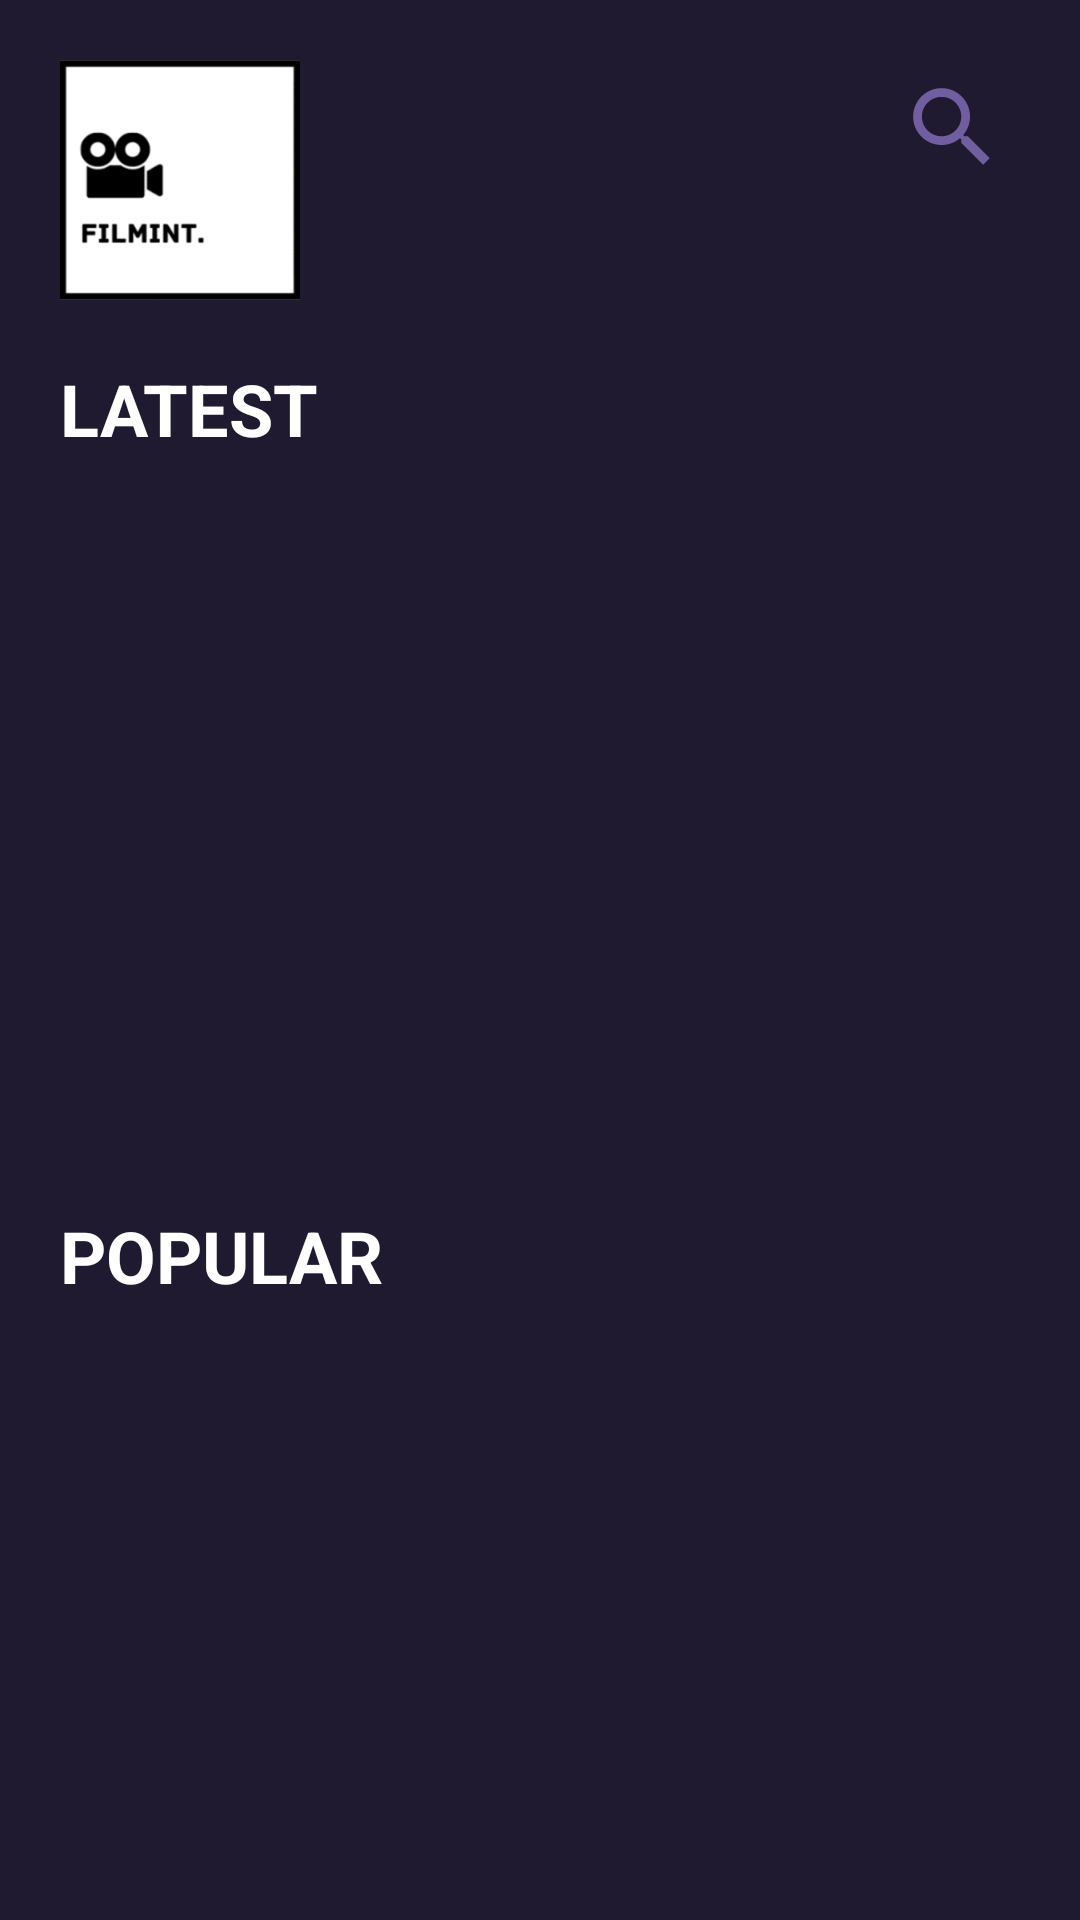

Locate icon controls on the screen. Image size 1080w x 1920h, boxes as (x1, y1, x2, y2).
search: (913, 88, 990, 165)
